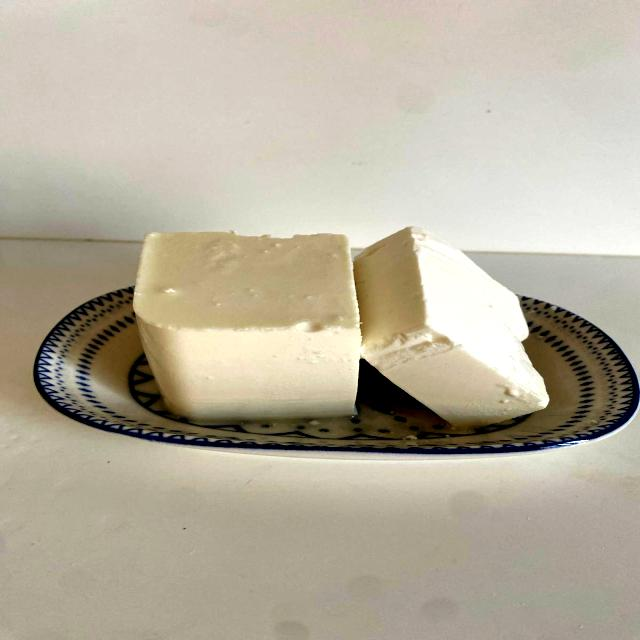cheese: (116, 210, 375, 421), (347, 230, 596, 439)
